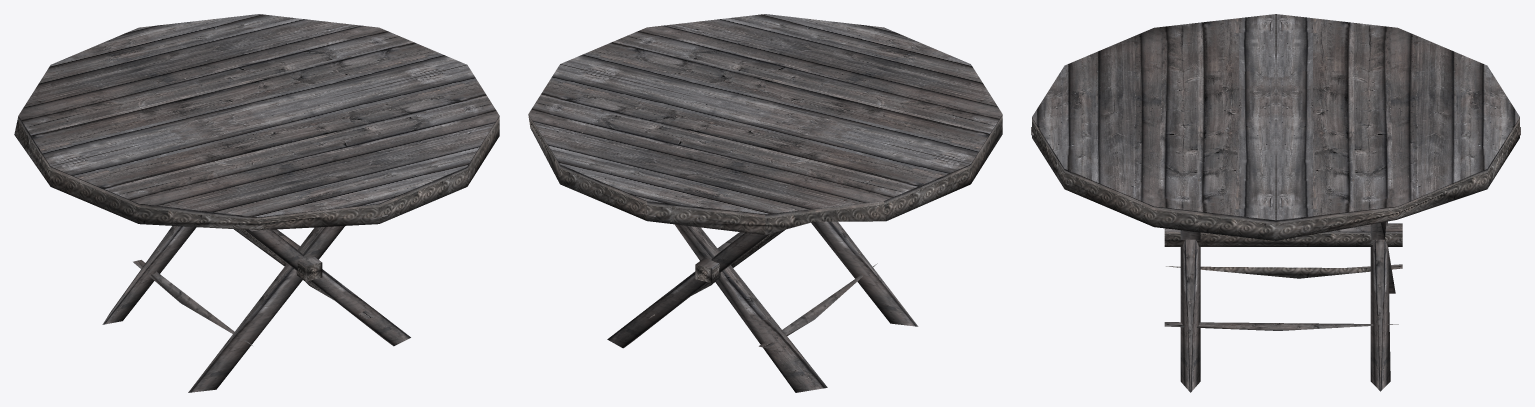
The model's file is tavern_table_LOD.fbx.
The picture shows the model from 3 angles, left to right: view 1: azimuth 30°, elevation 25°; view 2: azimuth 150°, elevation 25°; view 3: azimuth 270°, elevation 25°; orthographic projection. The views are drawn at different scales.
Parts seen in each view (by area): view 1: Default_Layer; view 2: Default_Layer; view 3: Default_Layer.
Boxes of the visible parts, box(x1,y1,x2,y2) form: Default_Layer: box(14, 14, 499, 392); Default_Layer: box(528, 14, 1002, 392); Default_Layer: box(1031, 14, 1520, 392).
Bounding box in the file's own units: 744 × 373 × 746.
Materials: 1 (1 with a texture image).
